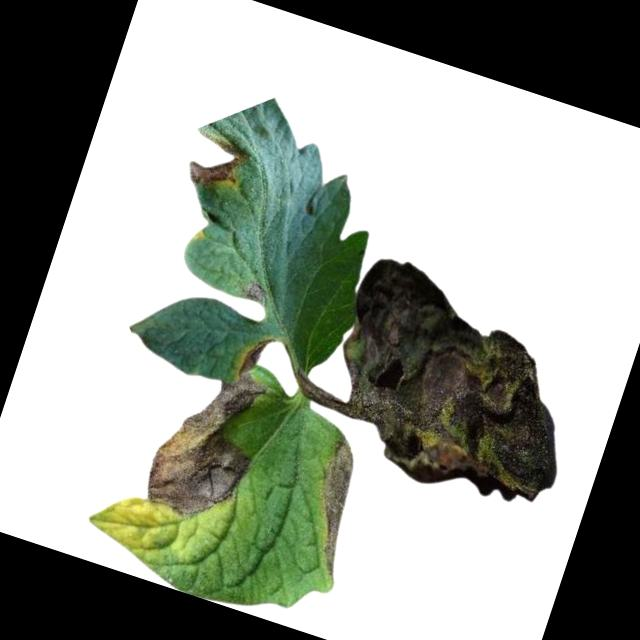Early_blight: (308, 250, 604, 521), (137, 357, 273, 533), (293, 436, 374, 577), (182, 127, 253, 197), (236, 330, 280, 383), (241, 280, 269, 305)
